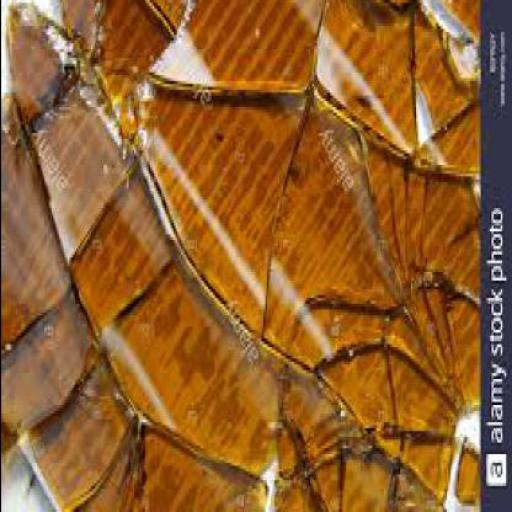glass: (1, 2, 479, 511), (123, 93, 307, 341), (97, 275, 287, 483), (252, 95, 390, 370), (1, 90, 70, 363), (66, 176, 175, 342), (25, 78, 124, 258), (307, 2, 417, 162), (150, 3, 318, 102), (18, 364, 126, 511), (1, 298, 97, 455), (96, 3, 170, 145), (278, 358, 360, 486), (408, 6, 474, 153), (414, 174, 476, 321), (1, 20, 78, 126), (382, 417, 464, 500), (307, 350, 381, 436), (384, 338, 446, 434), (413, 3, 482, 84), (354, 134, 396, 252), (416, 113, 480, 179), (336, 448, 399, 511), (397, 159, 428, 272), (50, 3, 101, 70), (306, 456, 351, 510), (384, 165, 406, 255), (146, 3, 185, 44), (451, 456, 475, 504)
